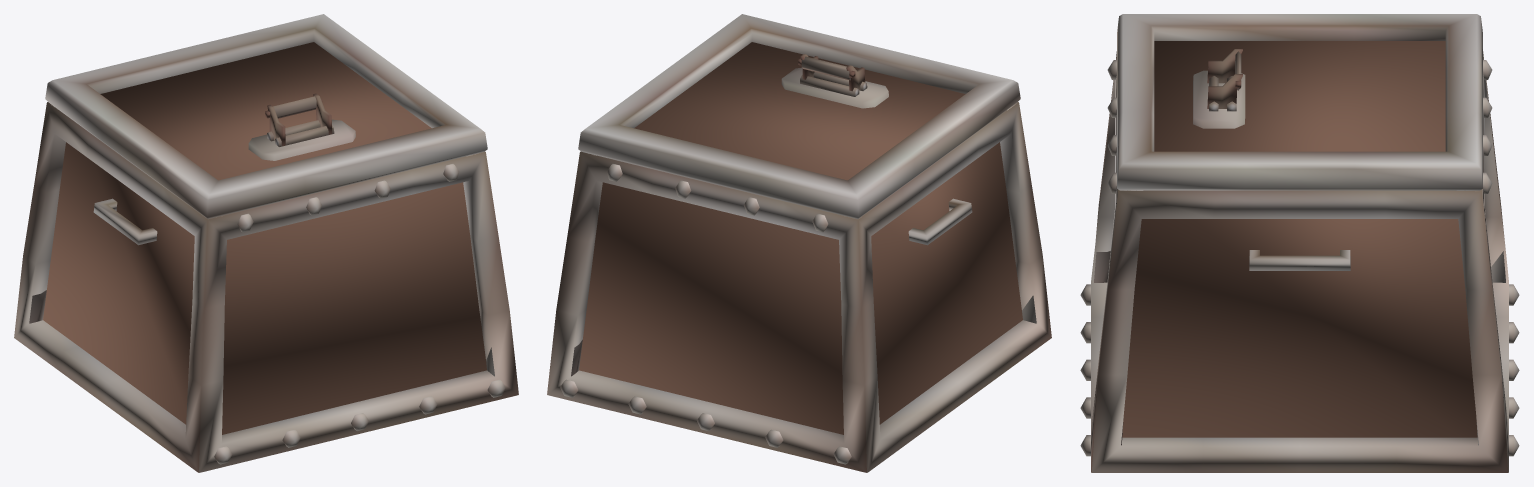
The model's file is iron-chest.glb.
3 views of the same model, side by side, from view 1: azimuth 30°, elevation 25°; view 2: azimuth 150°, elevation 25°; view 3: azimuth 270°, elevation 25° (orthographic). The views are drawn at different scales.
Parts seen in each view (by area): view 1: modelo; view 2: modelo; view 3: modelo.
Boxes of the visible parts, <box> form: modelo: <box>14,14,518,472</box>; modelo: <box>547,14,1051,472</box>; modelo: <box>1080,14,1519,472</box>.
Size of the model in its own units: 1.99 by 1.69 by 2.09.
